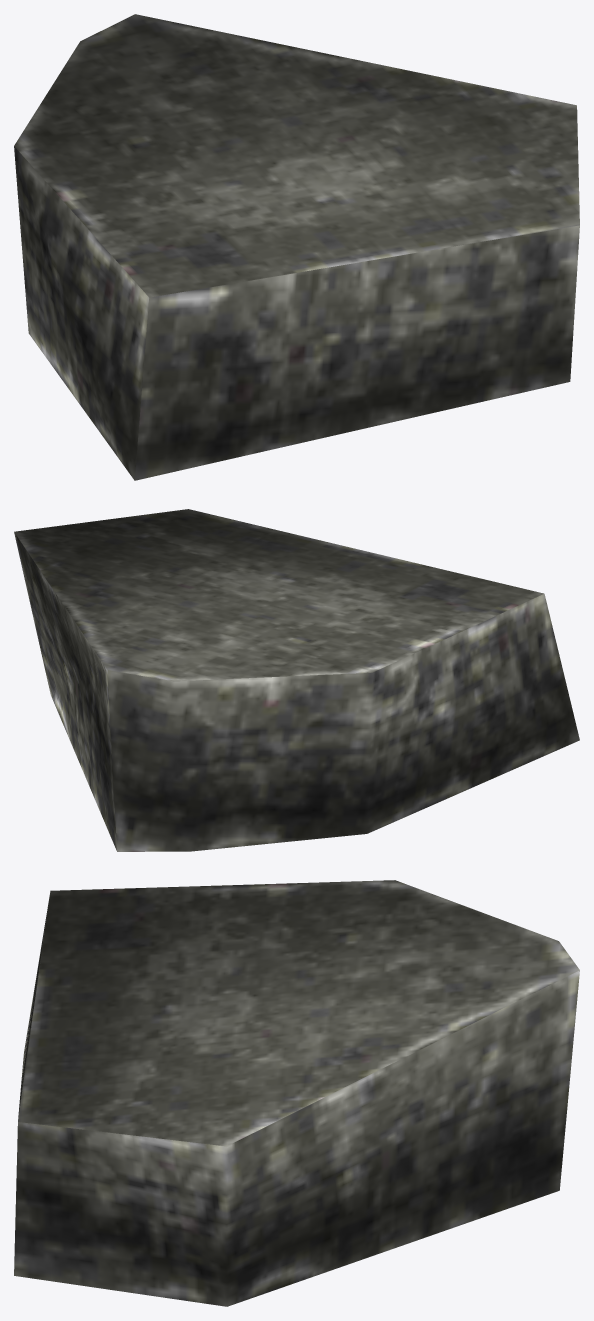
File: Stones_9.fbx
The picture shows the model from 3 angles, top to bottom: view 1: azimuth 30°, elevation 25°; view 2: azimuth 150°, elevation 25°; view 3: azimuth 270°, elevation 25°; orthographic projection. The views are drawn at different scales.
Visible parts, largest first — view 1: Stones_9; view 2: Stones_9; view 3: Stones_9.
Part boxes in pixels (x1=…): Stones_9: x1=14, y1=14, x2=579, y2=480; Stones_9: x1=14, y1=509, x2=579, y2=851; Stones_9: x1=14, y1=880, x2=579, y2=1306.
Bounding box in the file's own units: 108 × 40.38 × 93.65.
